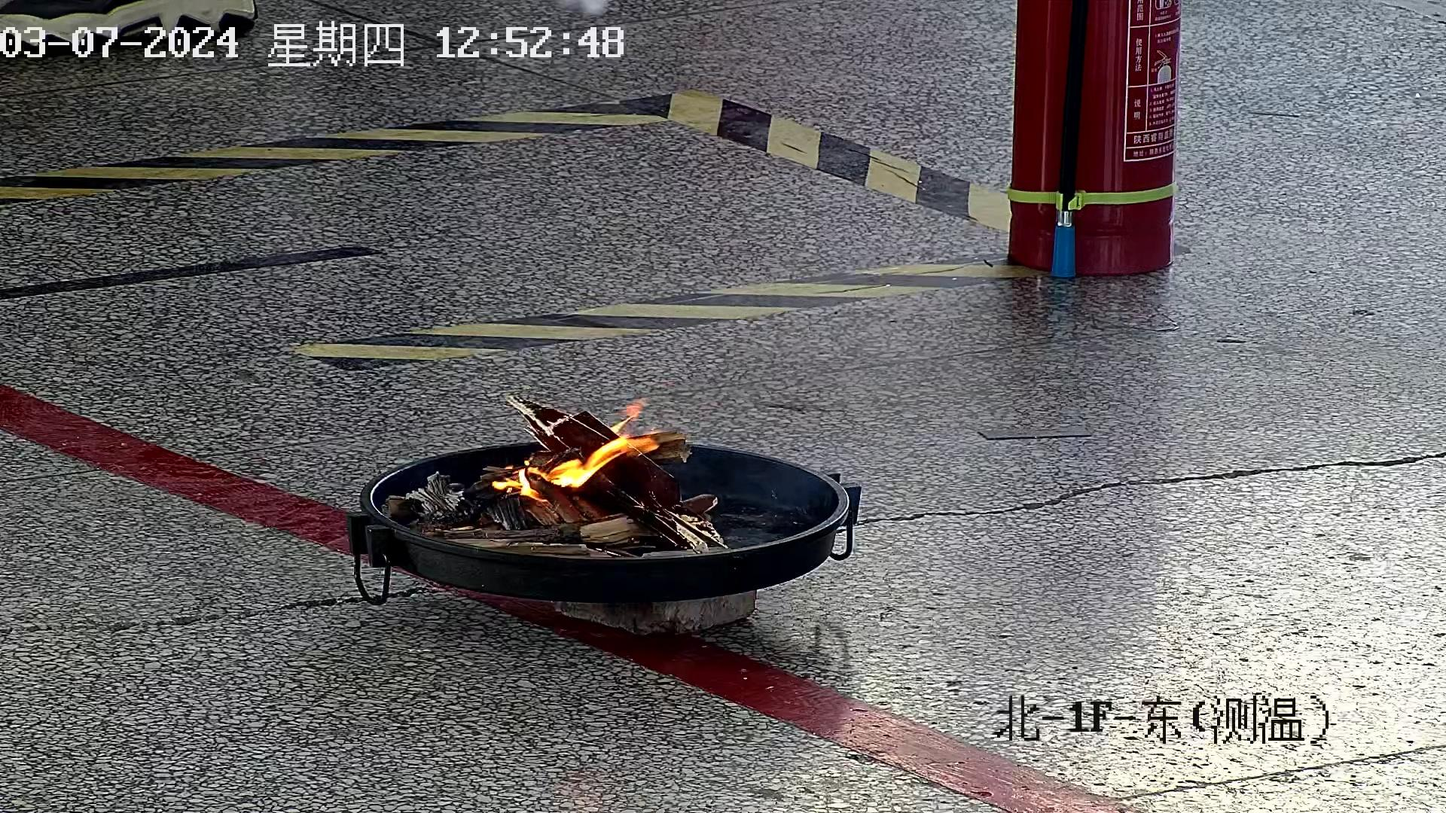fire: (493, 400, 660, 501)
